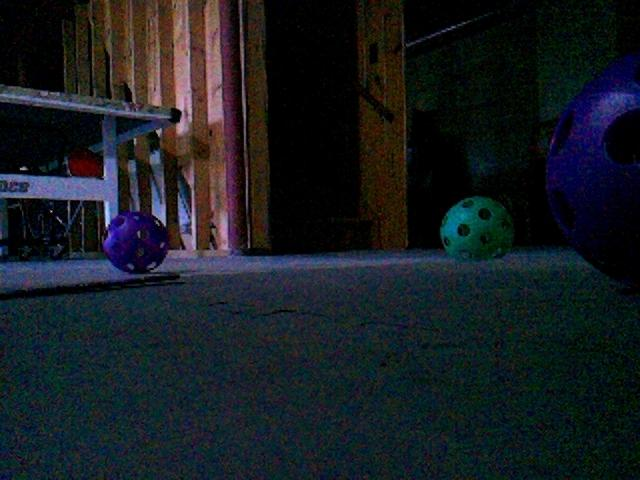Green: (437, 195, 514, 260)
Purple: (545, 45, 639, 286), (100, 209, 170, 273)
